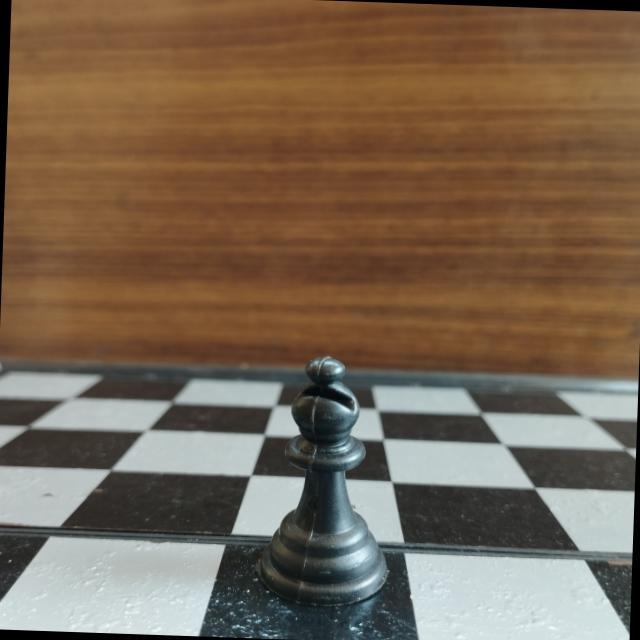Black Bishop: (238, 344, 409, 614)
